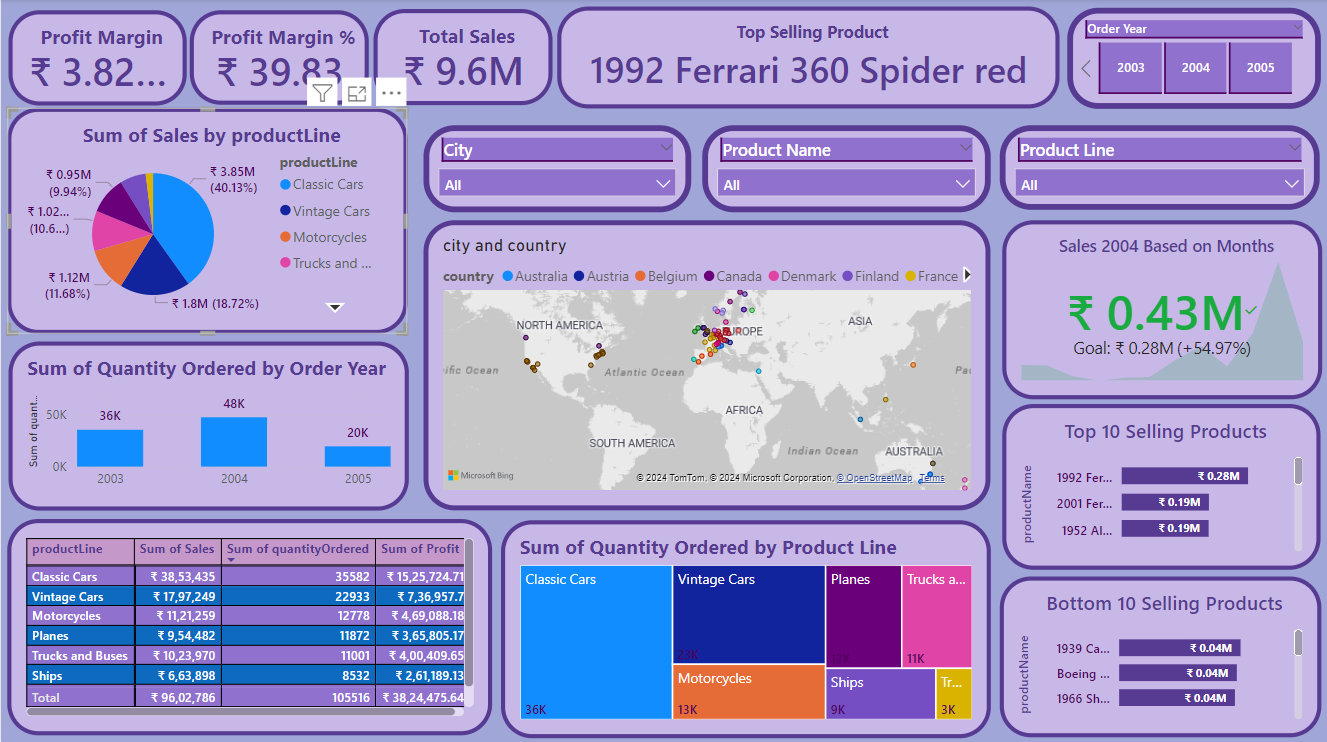

The page's visual inventory and layout, read from the dashboard file:
{"tool":"powerbi","page":{"name":"Page 1","canvas":[1280,720],"ordinal":0},"visuals":[{"type":"barChart","title":"Top 10 Selling Products","fields":{"Category":["Products.productName"],"Y":["Sum(OrderDetails.Sales)"]},"box":[966.2,391.2,307.5,160],"z":0},{"type":"pieChart","fields":{"Category":["Products.productLine"],"Y":["Sum(OrderDetails.Sales)"]},"box":[5.8,105,386.7,218.3],"z":1000},{"type":"pivotTable","fields":{"Rows":["Products.productLine"],"Values":["Sum(OrderDetails.Sales)","Sum(OrderDetails.quantityOrdered)","Sum(OrderDetails.Profit)"]},"box":[6,501.9,468.1,208.7],"z":2000},{"type":"slicer","fields":{"Values":["Oders.order_year"]},"box":[1028.8,8.8,245,97.5],"z":3000},{"type":"card","title":"Profit Margin","fields":{"Values":["Sum(OrderDetails.Profit)"]},"box":[6.8,10.6,172,92],"z":4000},{"type":"card","title":"Profit Margin %","fields":{"Values":["classicmodels.Profit_Margin_%"]},"box":[182.5,10.5,173,91.5],"z":6000},{"type":"card","title":"Total Sales ","fields":{"Values":["Sum(OrderDetails.Sales)"]},"box":[359.2,9.6,172.5,92.5],"z":7000},{"type":"card","title":"Top Selling Product","fields":{"Values":["OrderDetails.MostOrderedProduct"]},"box":[536.9,6.9,484.6,98.5],"z":8000},{"type":"slicer","fields":{"Values":["Offices.city"]},"box":[407.5,121.7,258.3,84.2],"z":9000},{"type":"slicer","fields":{"Values":["Products.productName"]},"box":[676.7,121.7,278.3,84.2],"z":10000},{"type":"columnChart","title":"Sum of Quantity Ordered by Order Year","fields":{"Y":["Sum(OrderDetails.quantityOrdered)"],"Category":["Oders.order_year"]},"box":[6.7,330,386.7,163.3],"z":11000},{"type":"treemap","title":"Sum of Quantity Ordered by Product Line","fields":{"Group":["Products.productLine"],"Values":["Sum(OrderDetails.quantityOrdered)"]},"box":[482.5,502.5,472.5,210],"z":12000},{"type":"barChart","title":"Bottom 10 Selling Products","fields":{"Category":["Products.productName"],"Y":["Sum(OrderDetails.Sales)"]},"box":[963.6,557.3,310,155.5],"z":13000},{"type":"slicer","fields":{"Values":["Products.productLine"]},"box":[963.8,121.2,308.8,81.2],"z":14000},{"type":"kpi","title":"Sales 2004 Based on Months","fields":{"Goal":["Oders.Sales_2003"],"Indicator":["Oders.Sales_2004"],"TrendLine":["Oders.month_number"]},"box":[966.2,213.8,308.8,172.5],"z":15000},{"type":"map","fields":{"Category":["Customers.city"],"Series":["Customers.country"]},"box":[407.5,213.8,547.5,280],"z":15001}]}

Visuals, with their boxes in screenshot pixels (x1, y1, x2, y2), scaled from the page's 1280x720 canvas onto the 1327x742 screenshot:
"Top 10 Selling Products" barChart: crop(1002, 403, 1320, 568)
pieChart - Products.productLine x Sum(OrderDetails.Sales): crop(6, 108, 407, 333)
pivotTable - Products.productLine x Sum(OrderDetails.Sales): crop(6, 517, 492, 732)
slicer - Oders.order_year: crop(1067, 9, 1321, 110)
"Profit Margin" card: crop(7, 11, 185, 106)
"Profit Margin %" card: crop(189, 11, 369, 105)
"Total Sales " card: crop(372, 10, 551, 105)
"Top Selling Product" card: crop(557, 7, 1059, 109)
slicer - Offices.city: crop(422, 125, 690, 212)
slicer - Products.productName: crop(702, 125, 990, 212)
"Sum of Quantity Ordered by Order Year" columnChart: crop(7, 340, 408, 508)
"Sum of Quantity Ordered by Product Line" treemap: crop(500, 518, 990, 734)
"Bottom 10 Selling Products" barChart: crop(999, 574, 1320, 735)
slicer - Products.productLine: crop(999, 125, 1319, 209)
"Sales 2004 Based on Months" kpi: crop(1002, 220, 1322, 398)
map - Customers.city x Customers.country: crop(422, 220, 990, 509)
